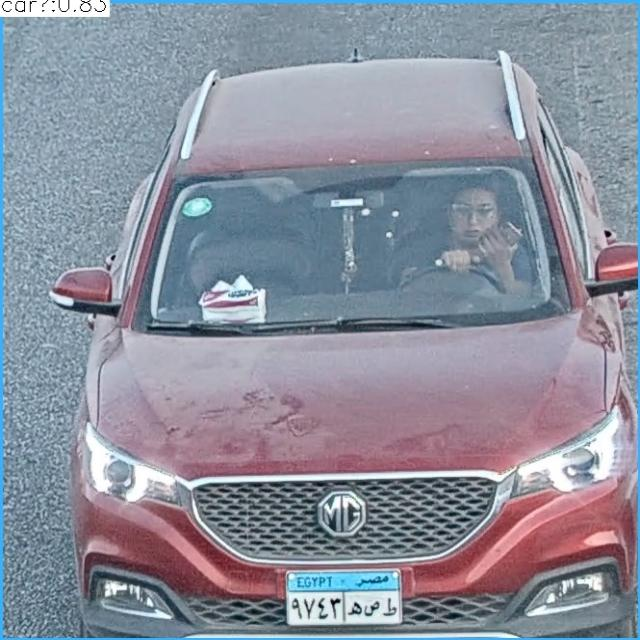windshield: (143, 169, 578, 318)
